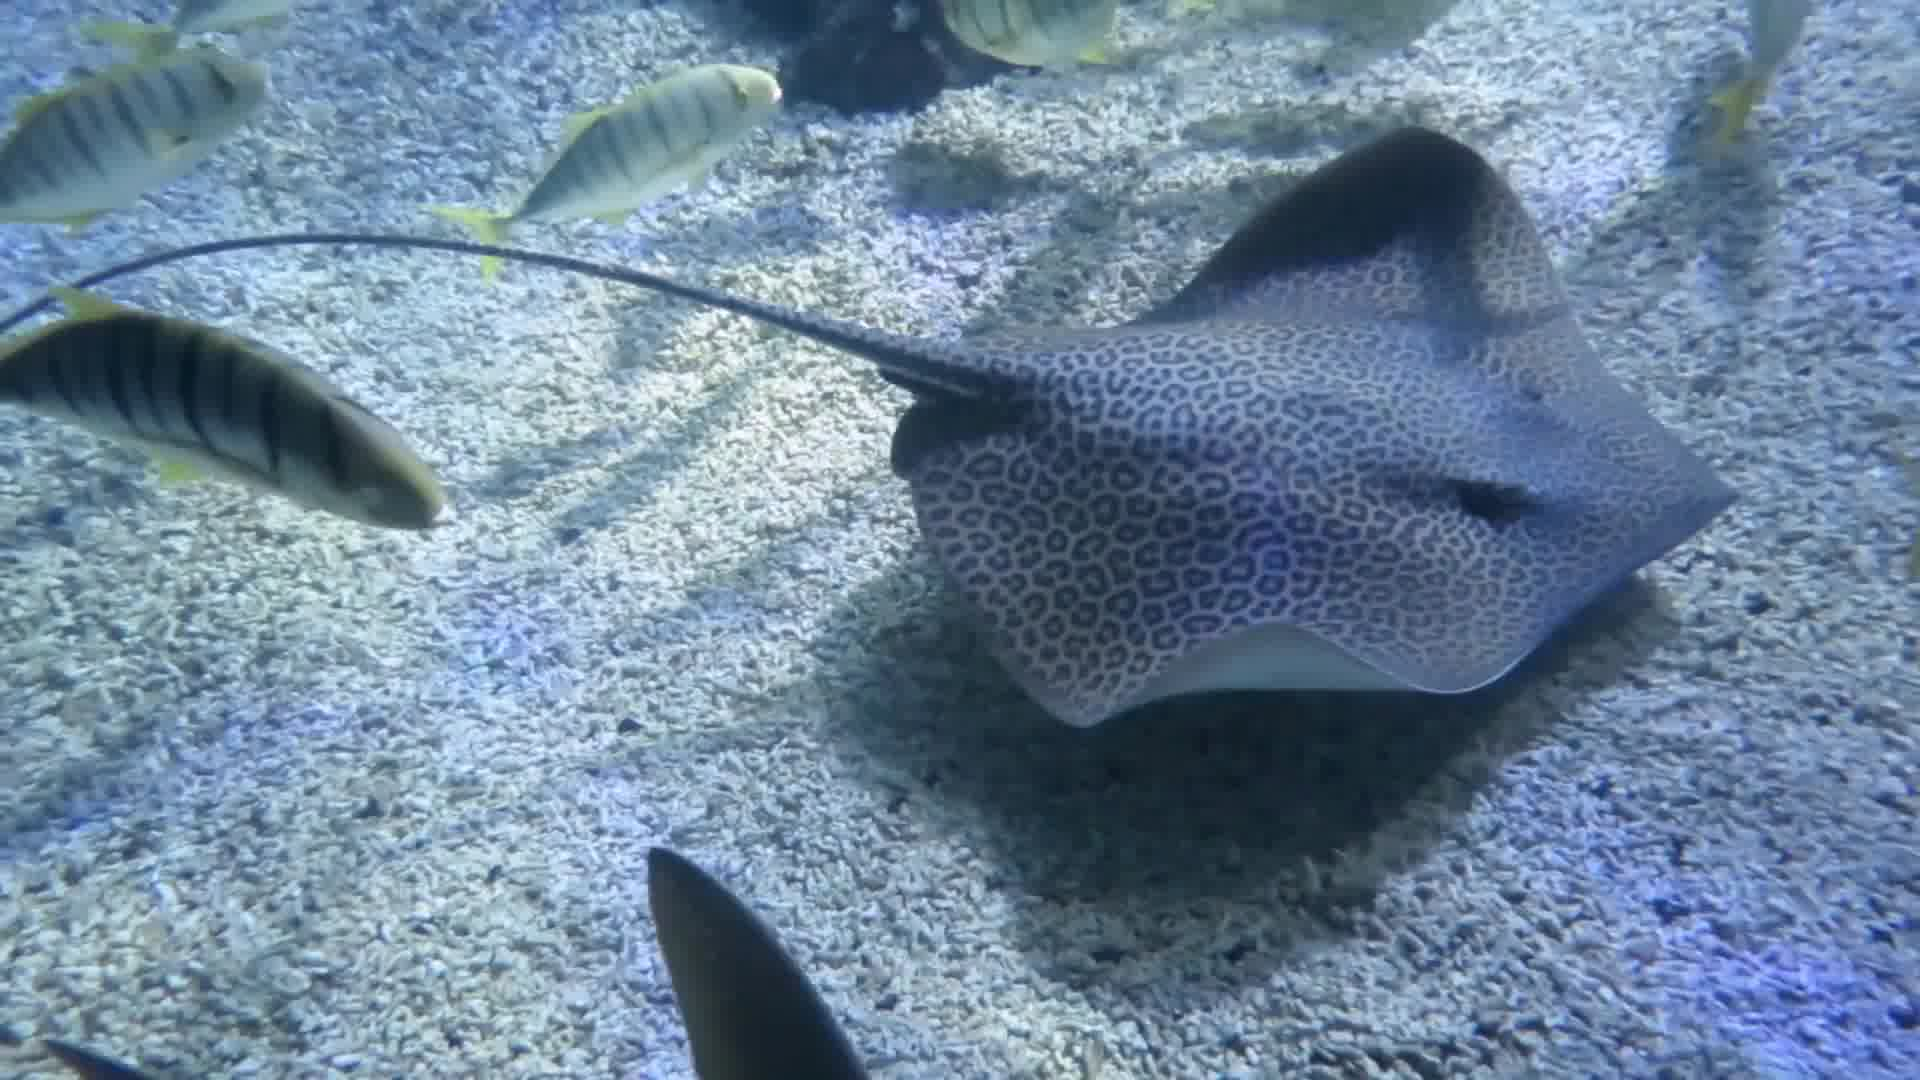Himantura uarnak: (865, 109, 1749, 749)
